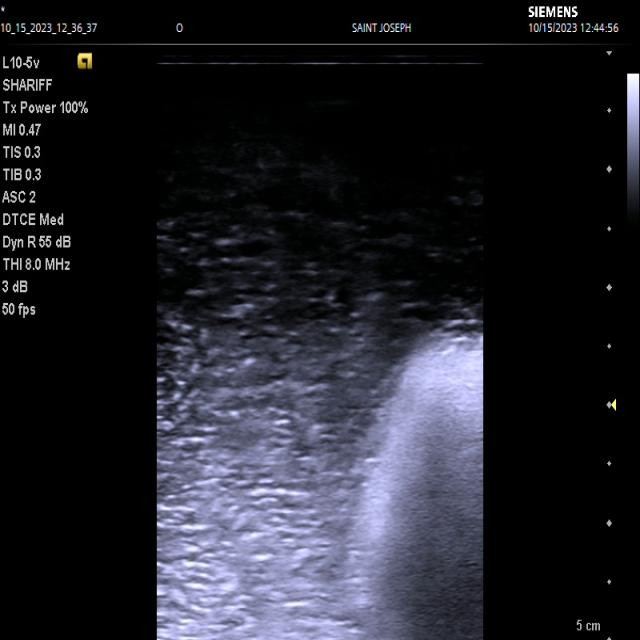tissue: (338, 323, 484, 640)
